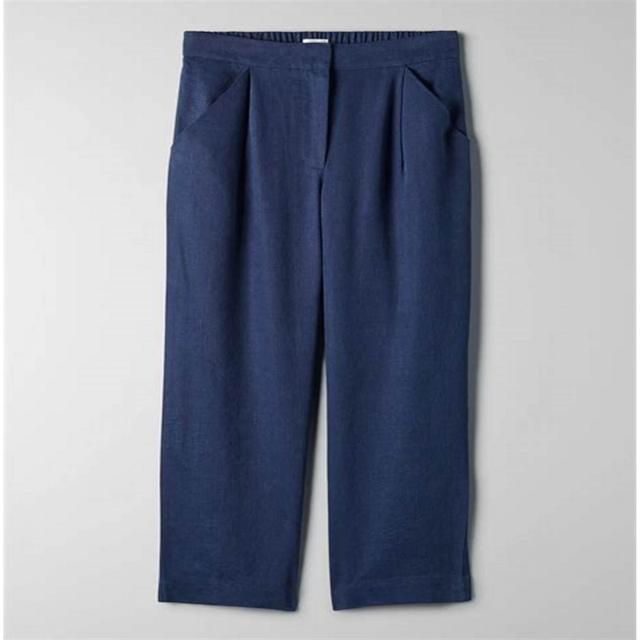long-pants: (154, 30, 478, 612)
